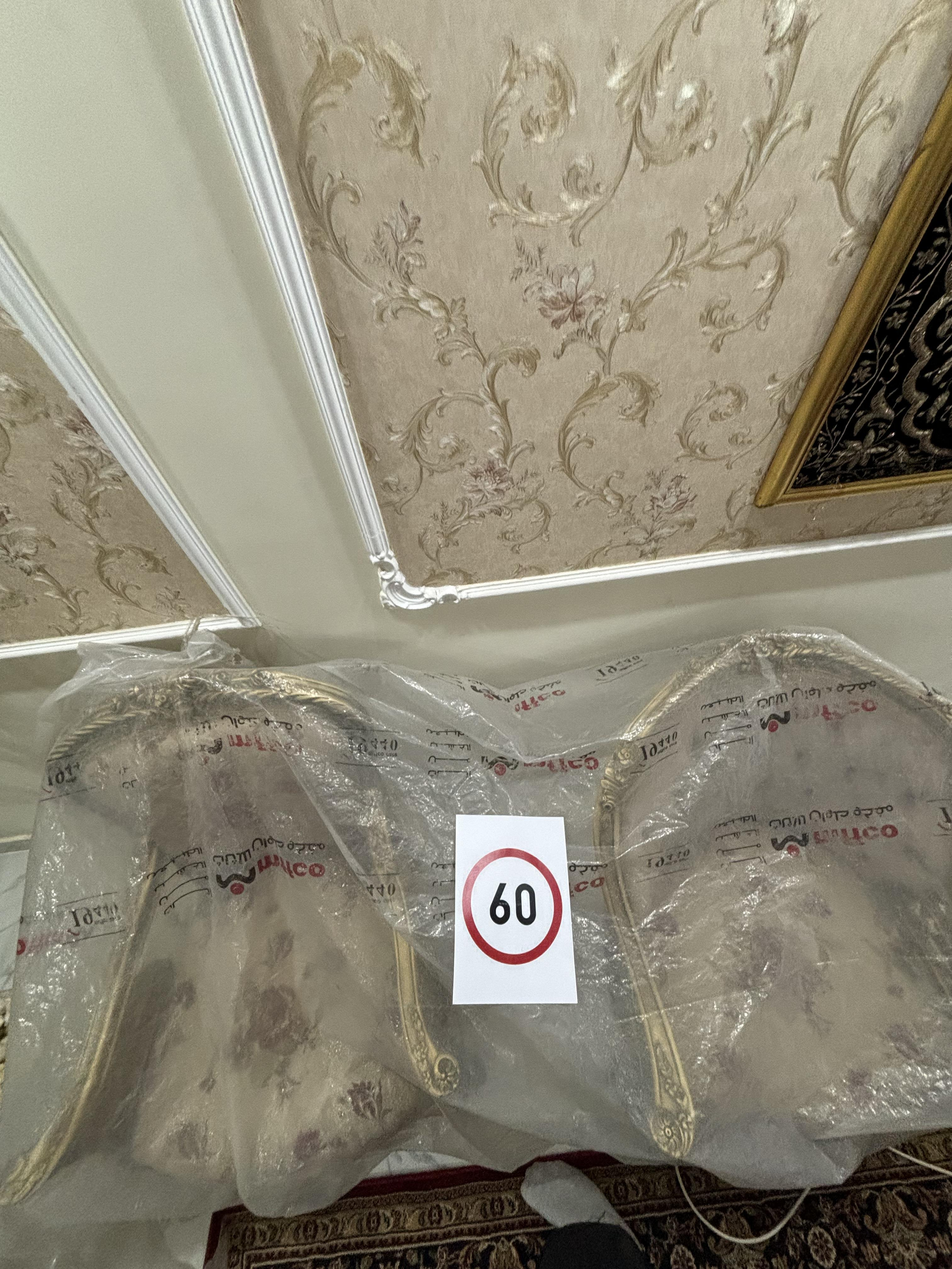60-Speed: (456, 845, 568, 964)
